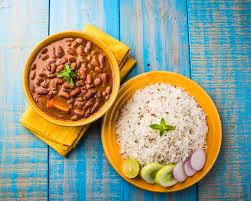rajma: (24, 39, 117, 122)
rice: (117, 89, 206, 155)
salad: (139, 162, 180, 186), (172, 158, 211, 176)
